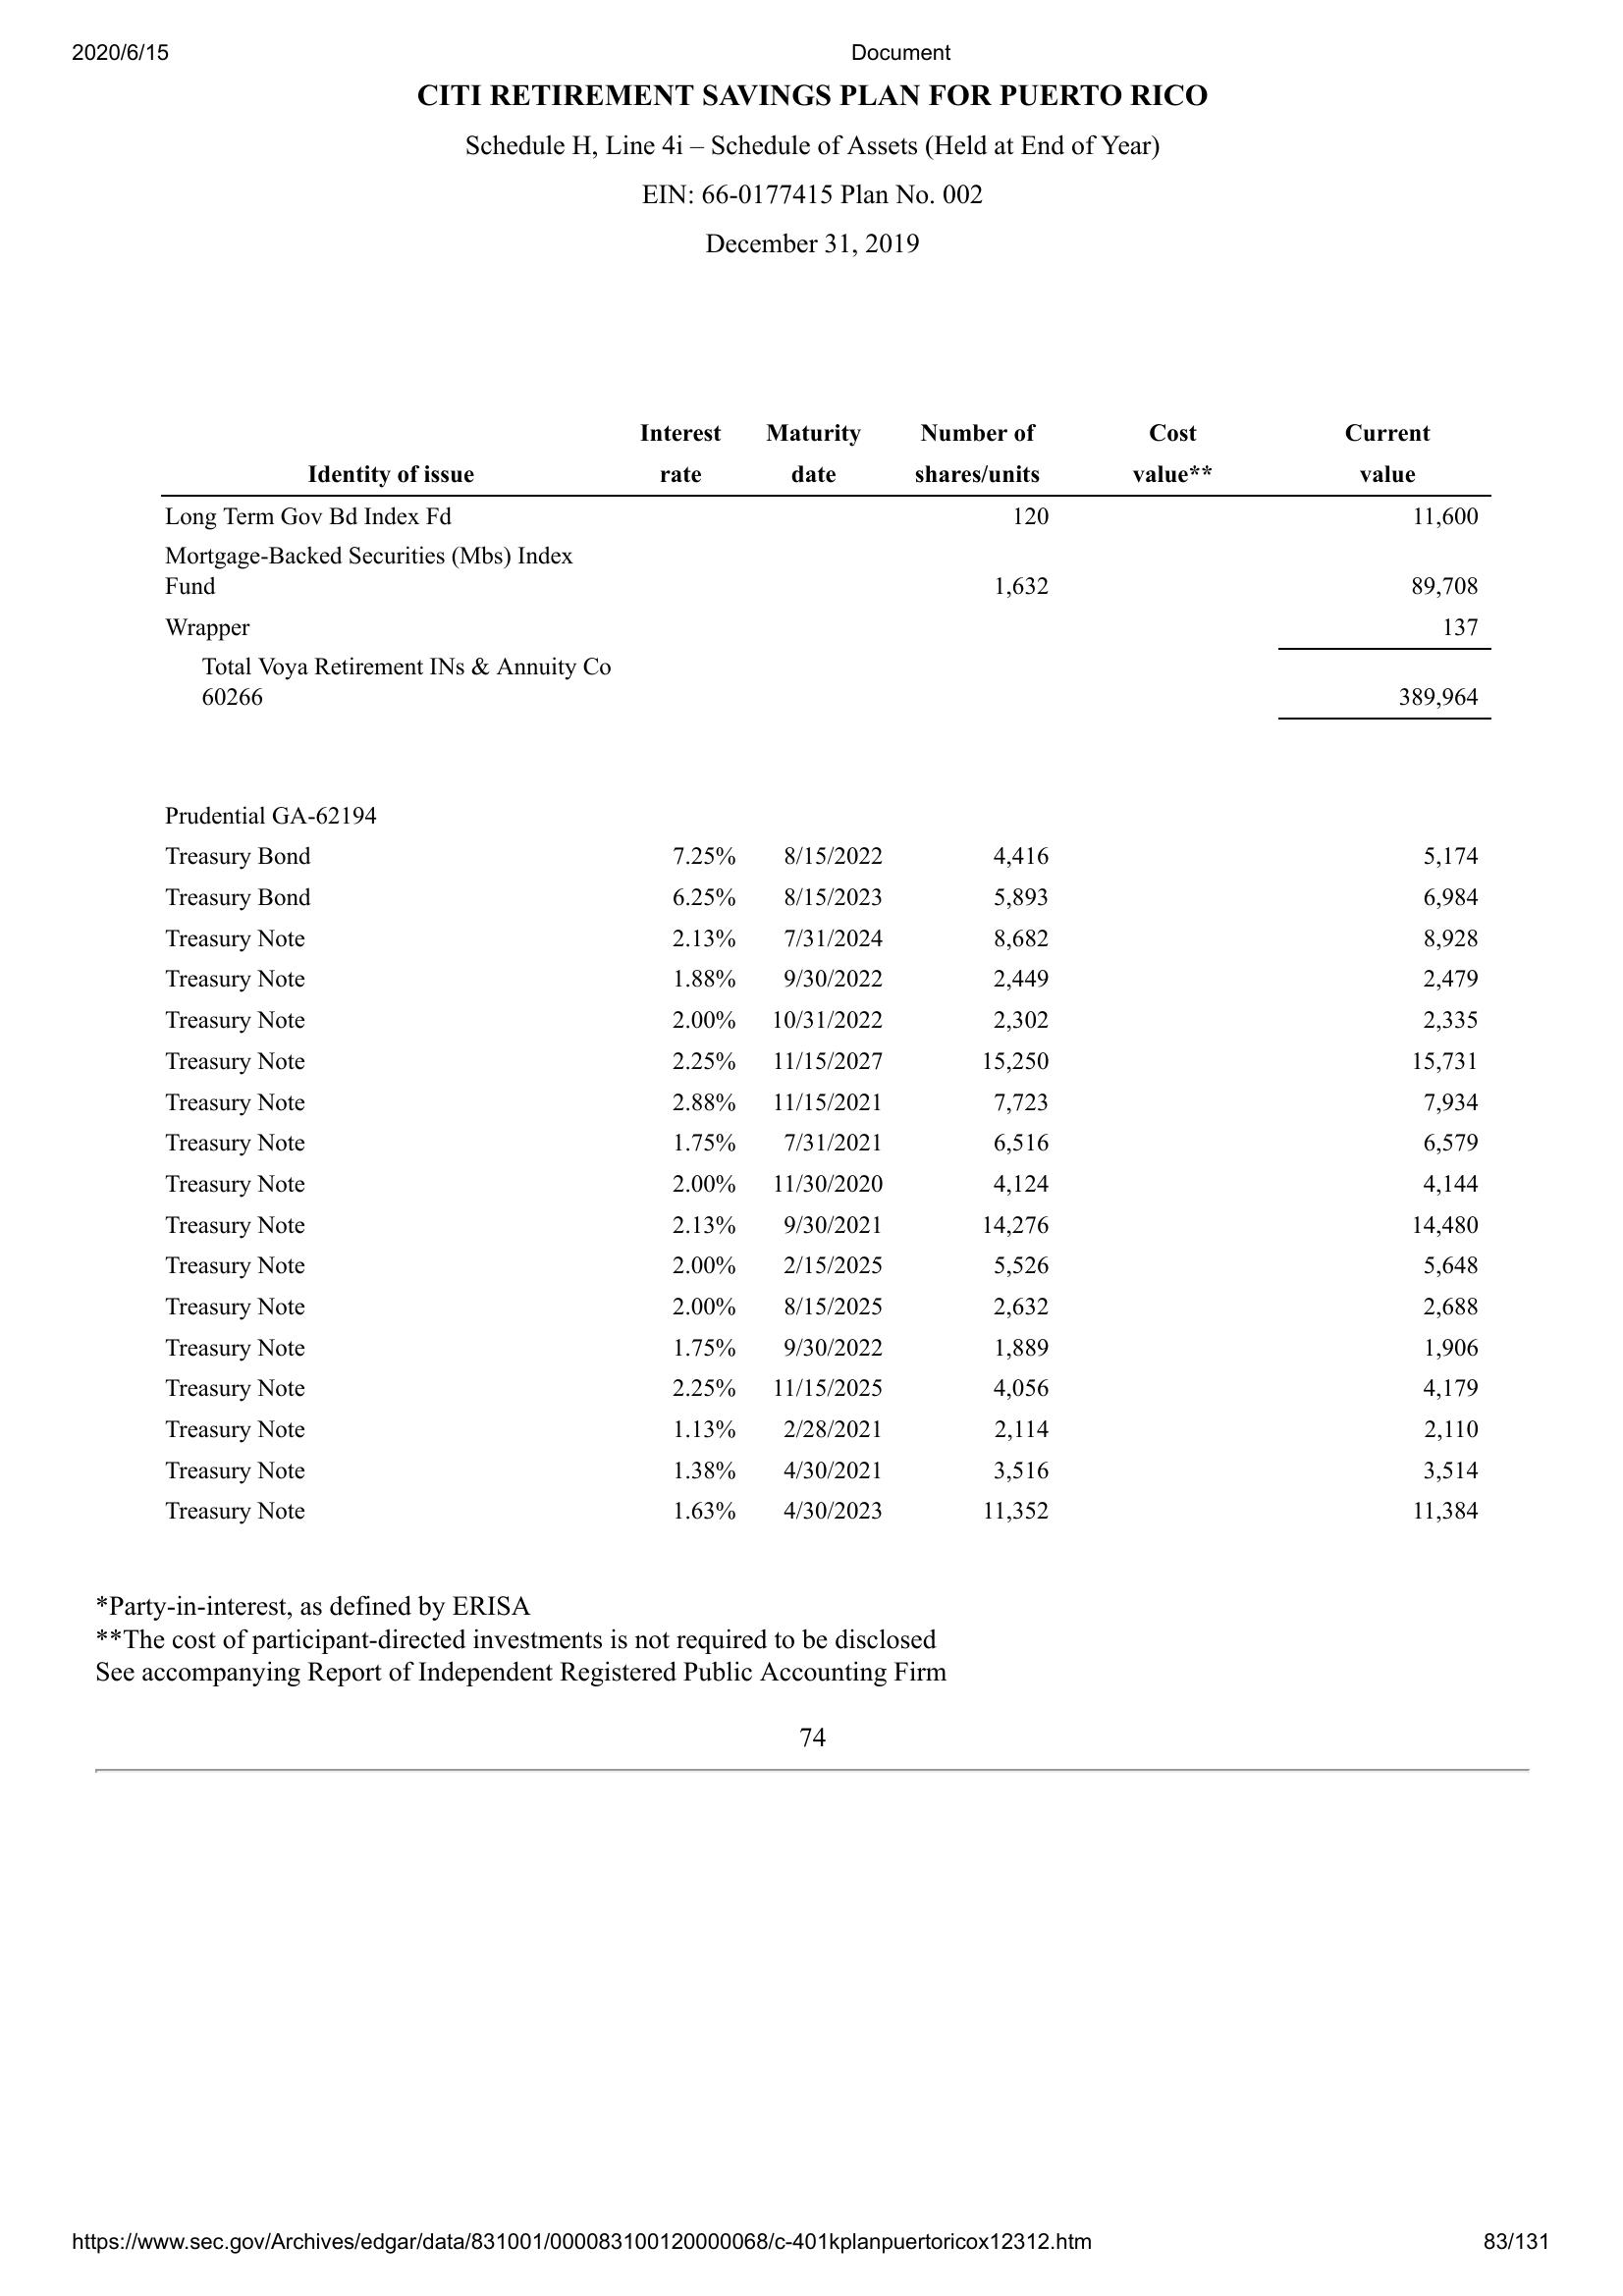table: (144, 802, 1493, 1531), (160, 418, 1502, 725)
